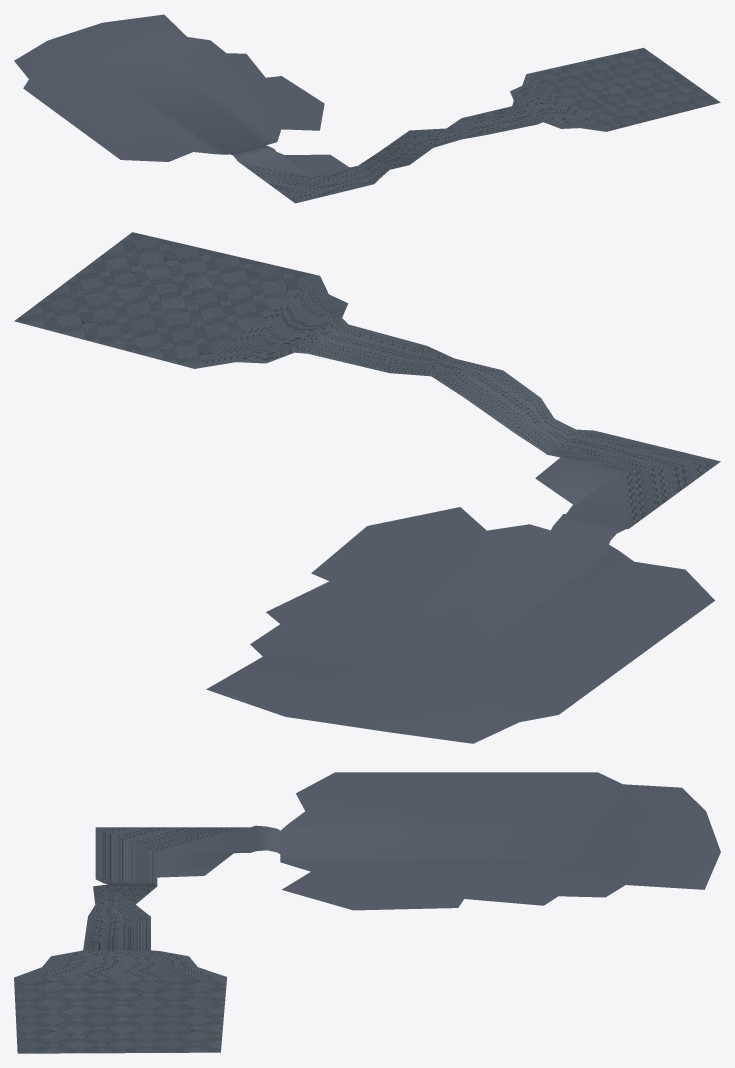
Rendered from coli.FBX.
3 views of the same model, one above another, from view 1: azimuth 30°, elevation 25°; view 2: azimuth 150°, elevation 25°; view 3: azimuth 270°, elevation 25° (orthographic). The views are drawn at different scales.
Visible parts, largest first — view 1: coli; view 2: coli; view 3: coli.
Part boxes in pixels (box(x1,y1,x2,y2)): coli: box(14, 14, 720, 203); coli: box(14, 232, 720, 743); coli: box(14, 772, 720, 1053).
Size of the model in its own units: 5515 by 313 by 5205.
